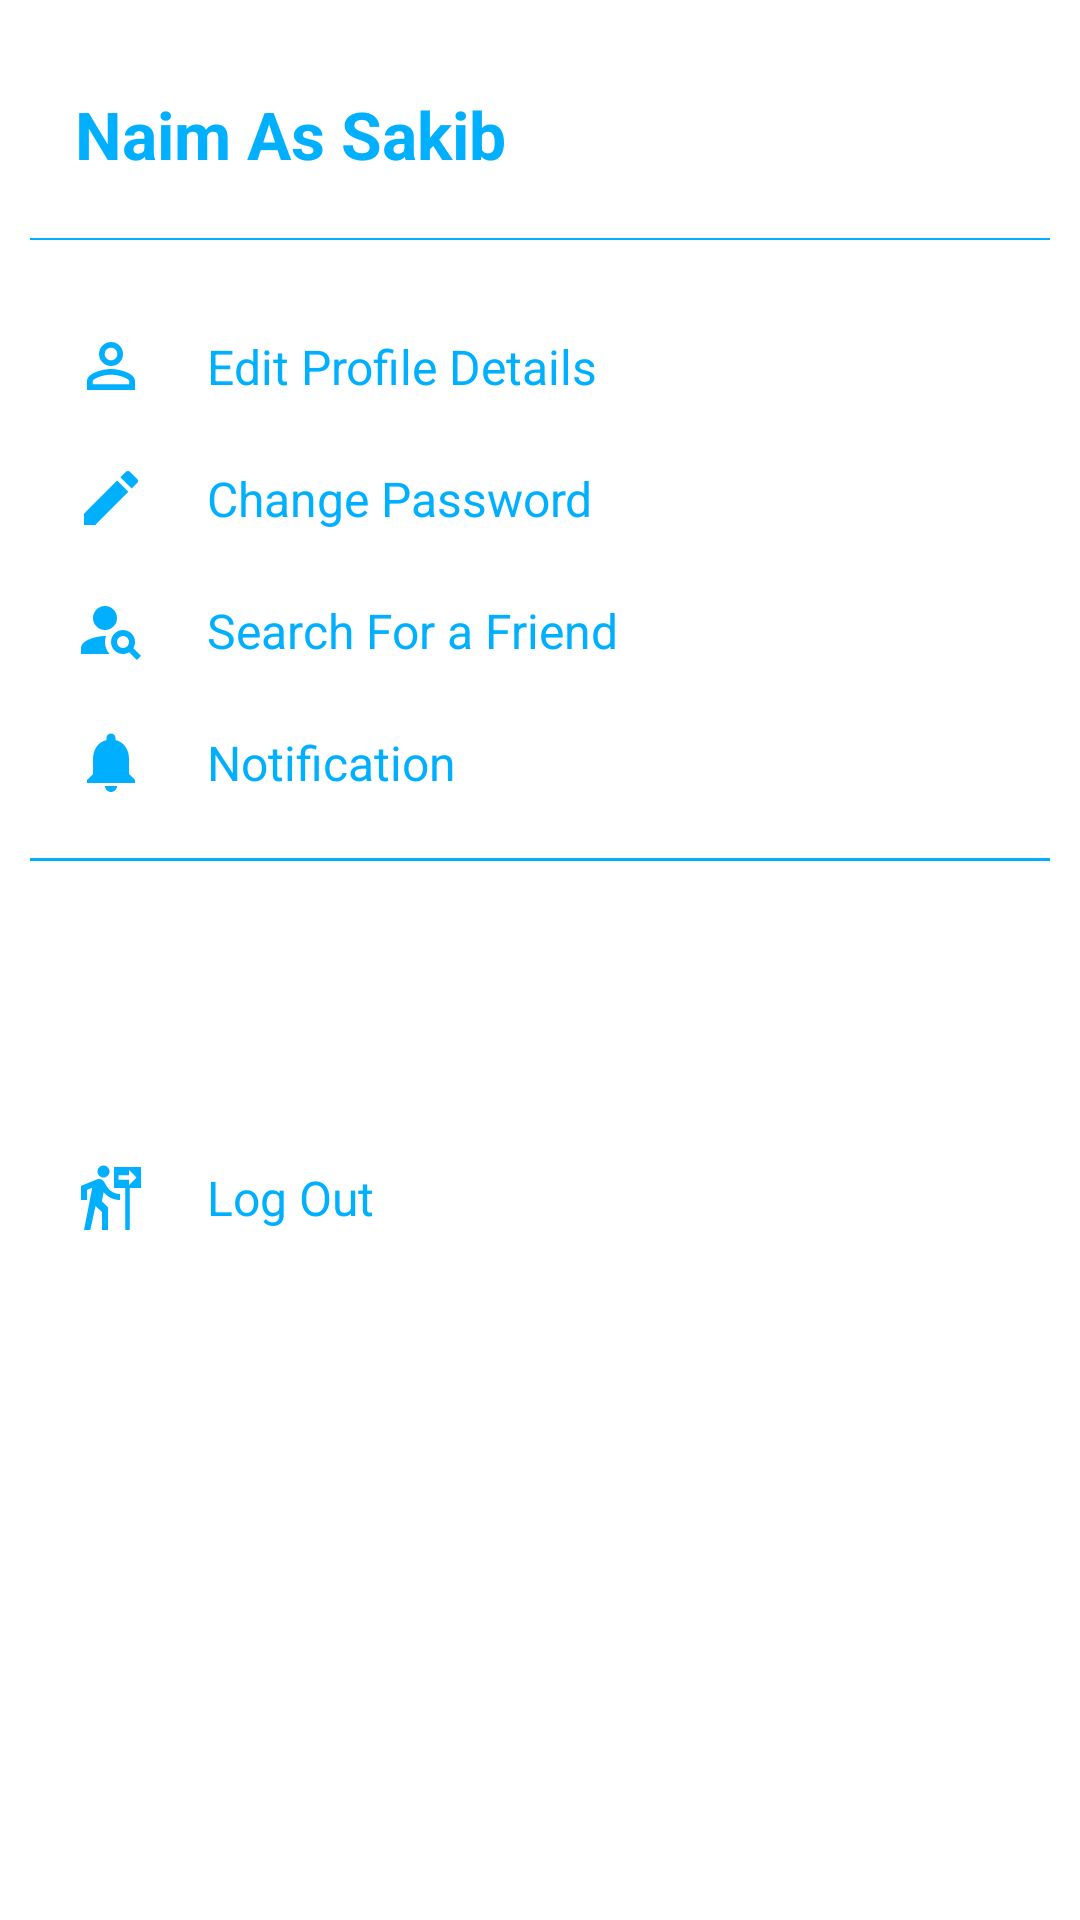

Icon click points for this 1080px x 1920px phone screenshot, format (x,y):
edit password: (111,498)
person search: (111,633)
